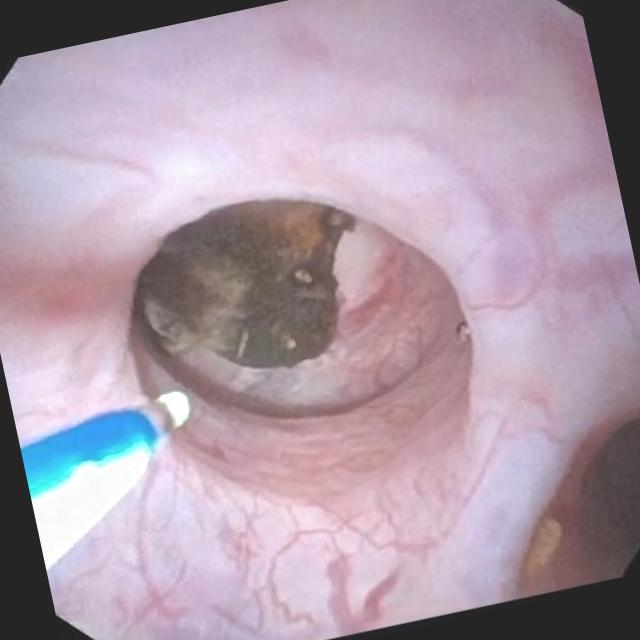laser-fibre: (138, 391, 187, 441)
stone-new: (138, 202, 353, 369)
